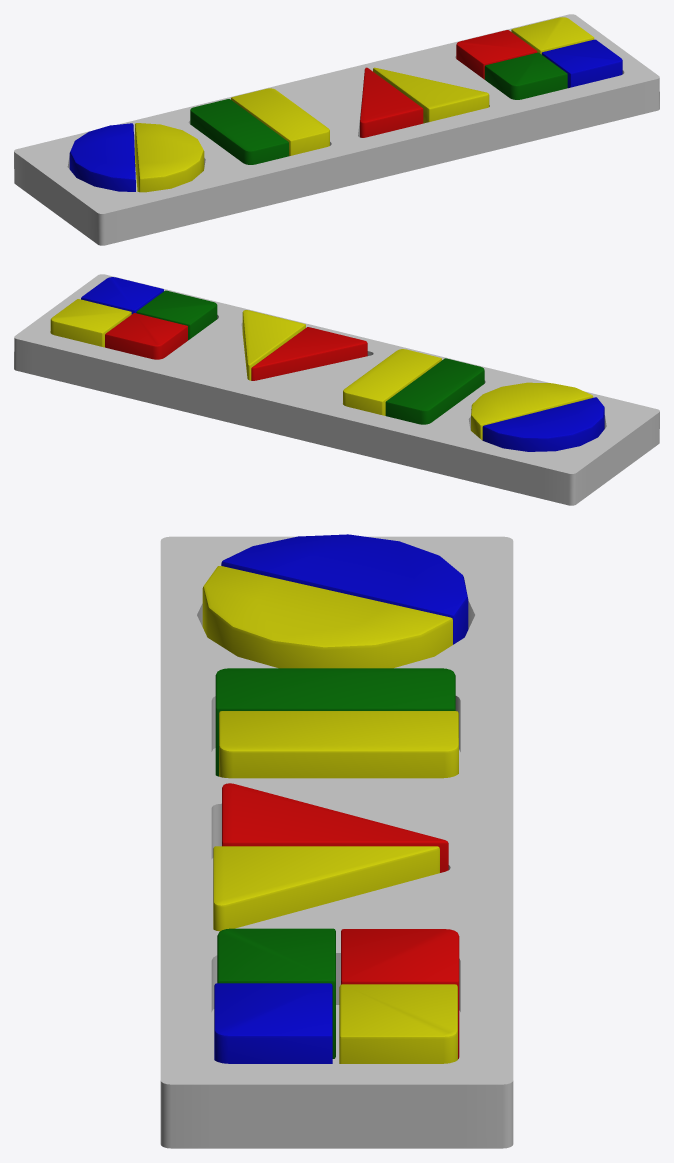
The model's file is toy.obj.
3 views of the same model, one above another, from view 1: azimuth 30°, elevation 25°; view 2: azimuth 150°, elevation 25°; view 3: azimuth 270°, elevation 25° (orthographic). The views are drawn at different scales.
Parts seen in each view (by area): view 1: toy03, briks; view 2: toy03, briks; view 3: briks, toy03.
Part boxes in pixels (x1,y1,x2,y2): toy03: (14,14,659,245); briks: (69,17,622,192); toy03: (14,274,659,505); briks: (50,277,604,451); briks: (202,534,468,1063); toy03: (160,536,513,1148).
Bounding box in the file's own units: 0.03 × 0.0023 × 0.00816.
